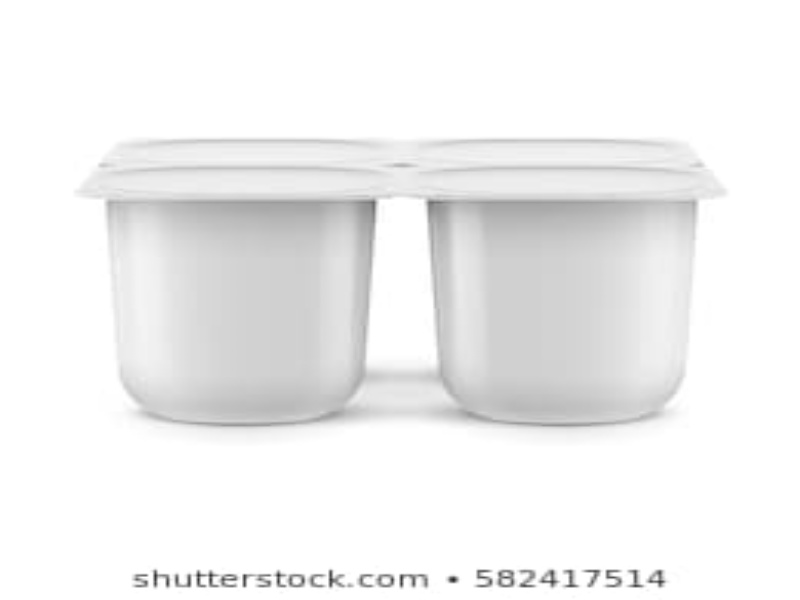yogurt-cup: (80, 159, 425, 432), (412, 166, 723, 424)
